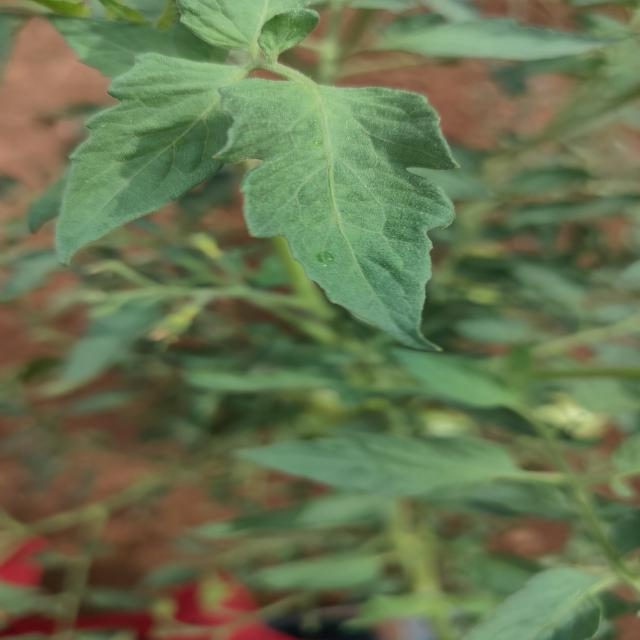tomato_healthy: (233, 80, 451, 350), (63, 51, 241, 262)
